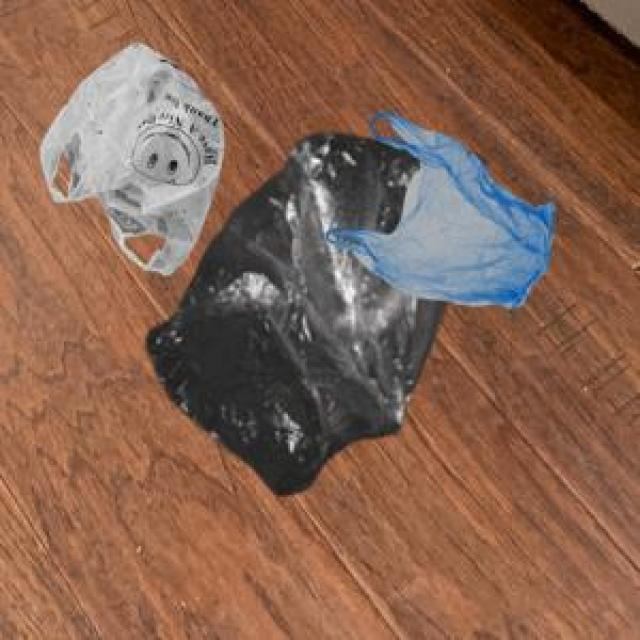plastic: (28, 18, 579, 516)
